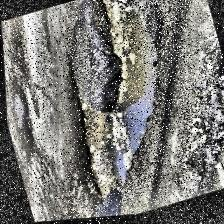pothole: (40, 0, 194, 206)
